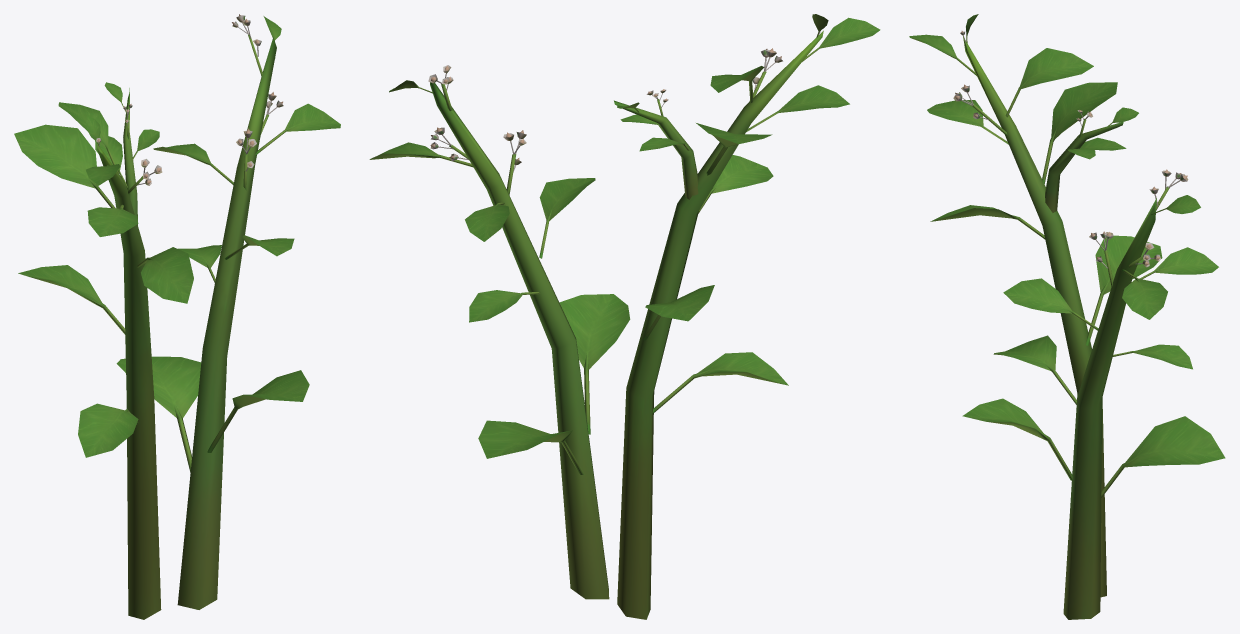
Rendered from PotatoesPlant_05_Flowering.fbx.
The picture shows the model from 3 angles, left to right: view 1: azimuth 30°, elevation 25°; view 2: azimuth 150°, elevation 25°; view 3: azimuth 270°, elevation 25°; orthographic projection. The views are drawn at different scales.
Parts seen in each view (by area): view 1: PotatoesPlant_05_Flowering; view 2: PotatoesPlant_05_Flowering; view 3: PotatoesPlant_05_Flowering.
Boxes of the visible parts, bbox=[...] form: PotatoesPlant_05_Flowering: bbox=[14, 14, 340, 619]; PotatoesPlant_05_Flowering: bbox=[369, 14, 880, 619]; PotatoesPlant_05_Flowering: bbox=[909, 14, 1225, 619].
Size of the model in its own units: 63.09 by 92.6 by 49.8.
